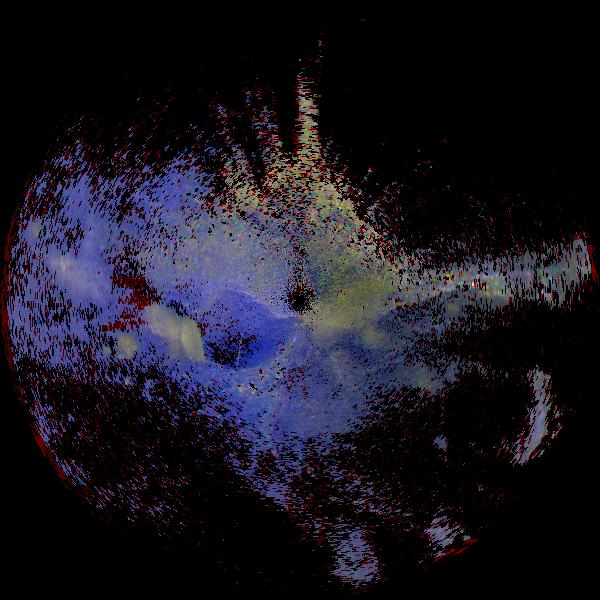roost: (72, 279, 240, 447)
